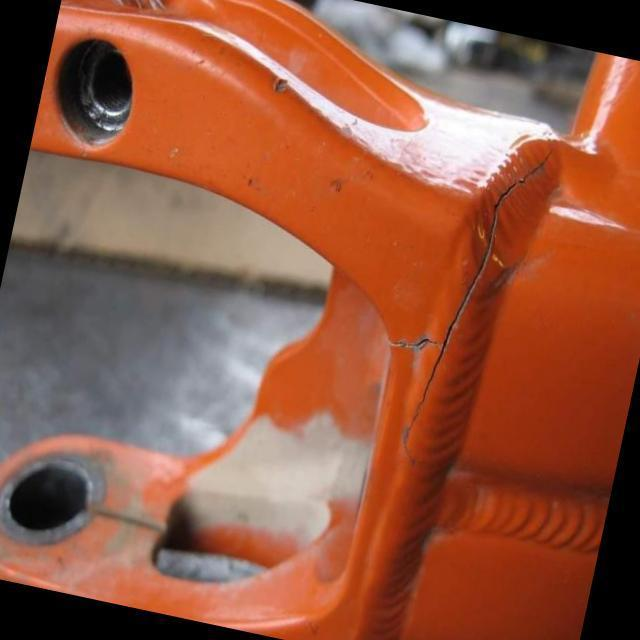defect: (384, 144, 557, 472)
